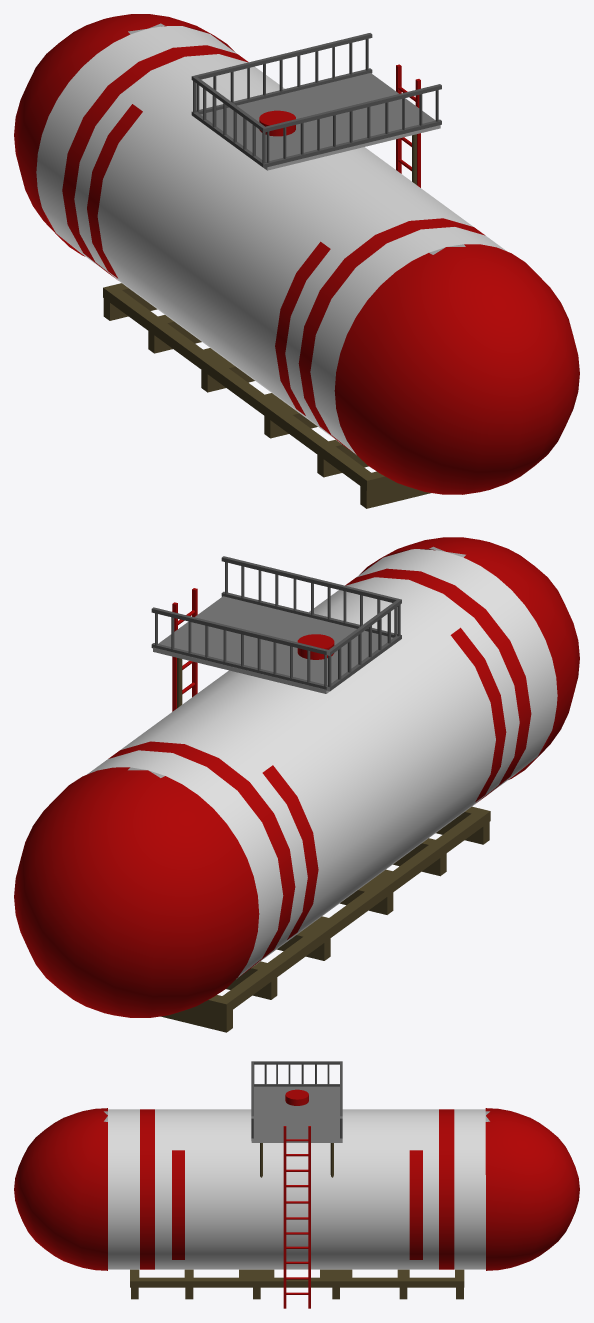
Rendered from oilTank.fbx.
The picture shows the model from 3 angles, top to bottom: view 1: azimuth 30°, elevation 25°; view 2: azimuth 150°, elevation 25°; view 3: azimuth 270°, elevation 25°; orthographic projection. The views are drawn at different scales.
Parts seen in each view (by area): view 1: pCube27; view 2: pCube27; view 3: pCube27.
Part boxes in pixels (<box>): pCube27: <box>14,14,579,508</box>; pCube27: <box>14,537,579,1032</box>; pCube27: <box>14,1061,579,1308</box>.
Bounding box in the file's own units: 5.38 × 7.14 × 18.52.
